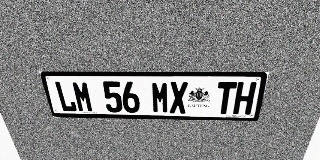5: (102, 81, 123, 113)
6: (120, 81, 140, 113)
H: (233, 82, 257, 115)
L: (53, 81, 78, 112)
M: (71, 81, 94, 112), (151, 82, 169, 113)
T: (215, 82, 237, 114)
X: (170, 82, 188, 114)
